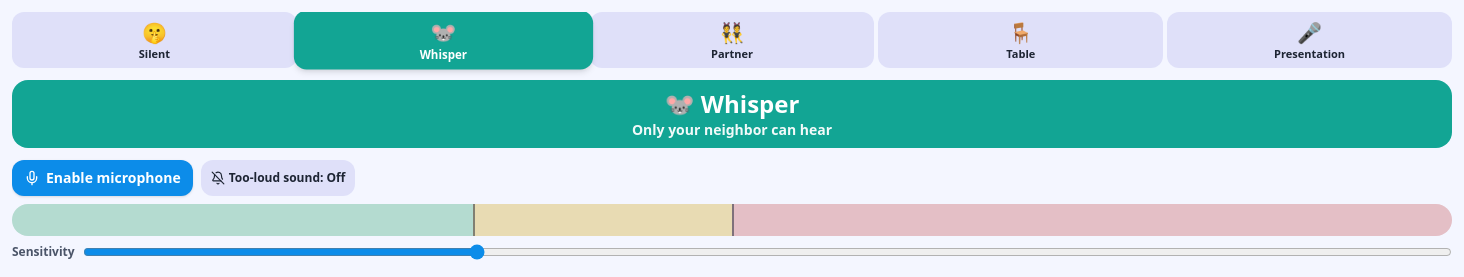
Voice Level widget › selecting an expectation updates the display
Click the radio button labelled "🎤 Presentation" at coordinates (1310, 40), box x1=1167 y1=12 x2=1452 y2=68
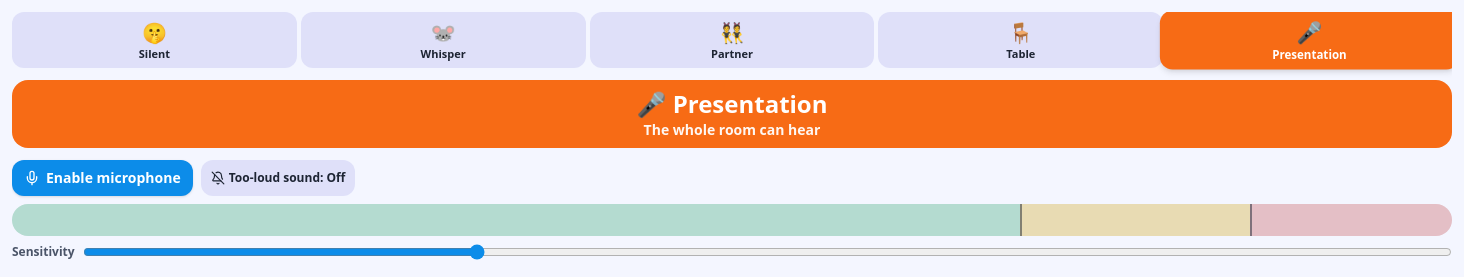
Expected: the element with test id "voice-expectation" shows "Presentation", x1=673 y1=87 x2=828 y2=120
